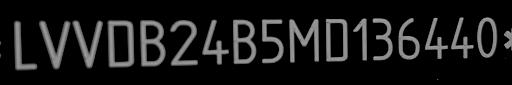letter: (38, 15, 70, 72), (166, 16, 200, 69), (286, 16, 322, 65), (72, 18, 104, 73), (200, 16, 232, 69), (105, 18, 137, 71), (137, 17, 167, 70), (11, 18, 39, 71), (322, 14, 350, 65), (230, 16, 258, 67), (259, 16, 285, 67), (422, 15, 450, 62), (449, 13, 475, 60), (396, 15, 422, 62), (370, 14, 394, 63), (475, 14, 499, 63), (351, 15, 369, 64)
